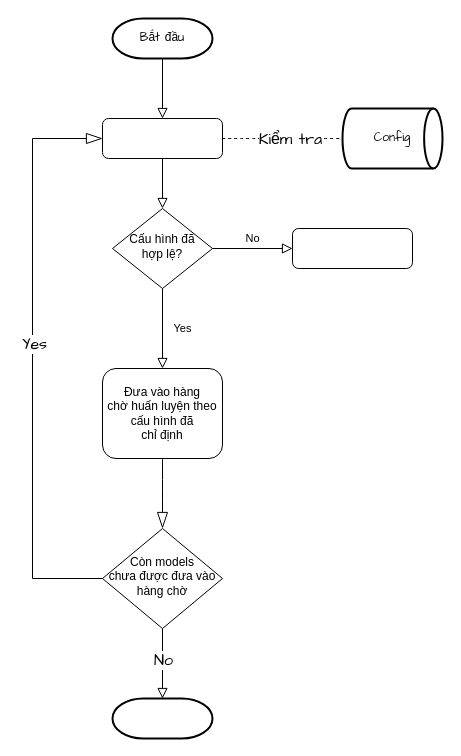
Some shapes in this 461 by 756 pixel diagram are drawn without their labels. Each missing label, with the box of its shape:
Kiểm tra cấu hình model: (102, 118, 222, 158)
Kết thúc: (111, 697, 213, 739)
Thông báo lỗi: (292, 228, 412, 268)
